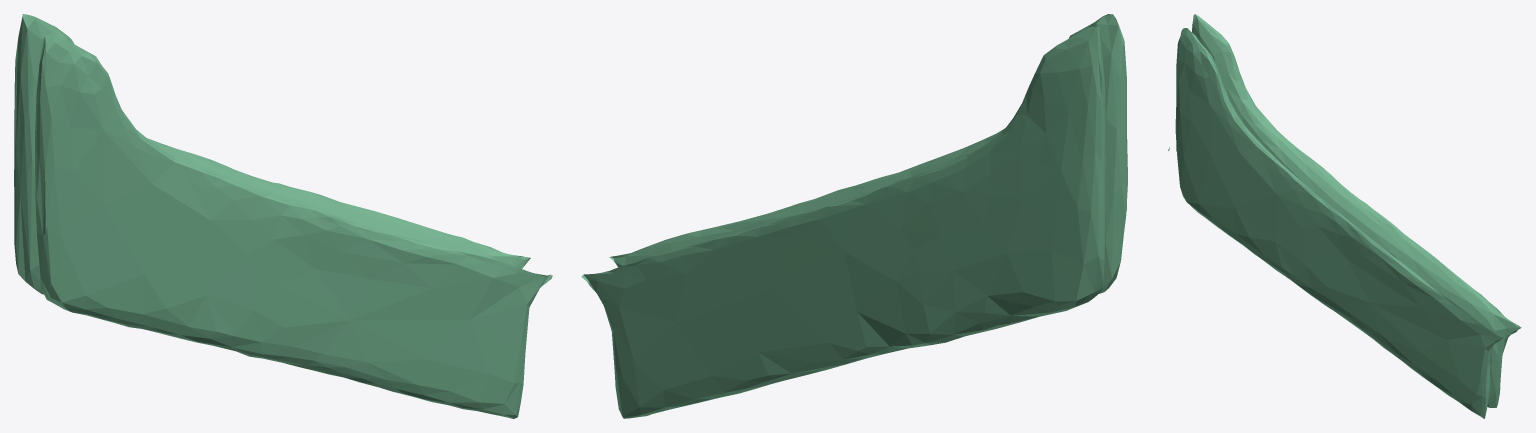
The picture shows the model from 3 angles, left to right: view 1: azimuth 30°, elevation 25°; view 2: azimuth 150°, elevation 25°; view 3: azimuth 330°, elevation 25°; orthographic projection. The views are drawn at different scales.
Parts seen in each view (by area): view 1: 588.obj; view 2: 588.obj; view 3: 588.obj.
Boxes of the visible parts, <box> form: 588.obj: <box>14,14,552,418</box>; 588.obj: <box>581,14,1127,418</box>; 588.obj: <box>1168,14,1521,418</box>.
Size of the model in its own units: 2325 by 2144 by 292.
